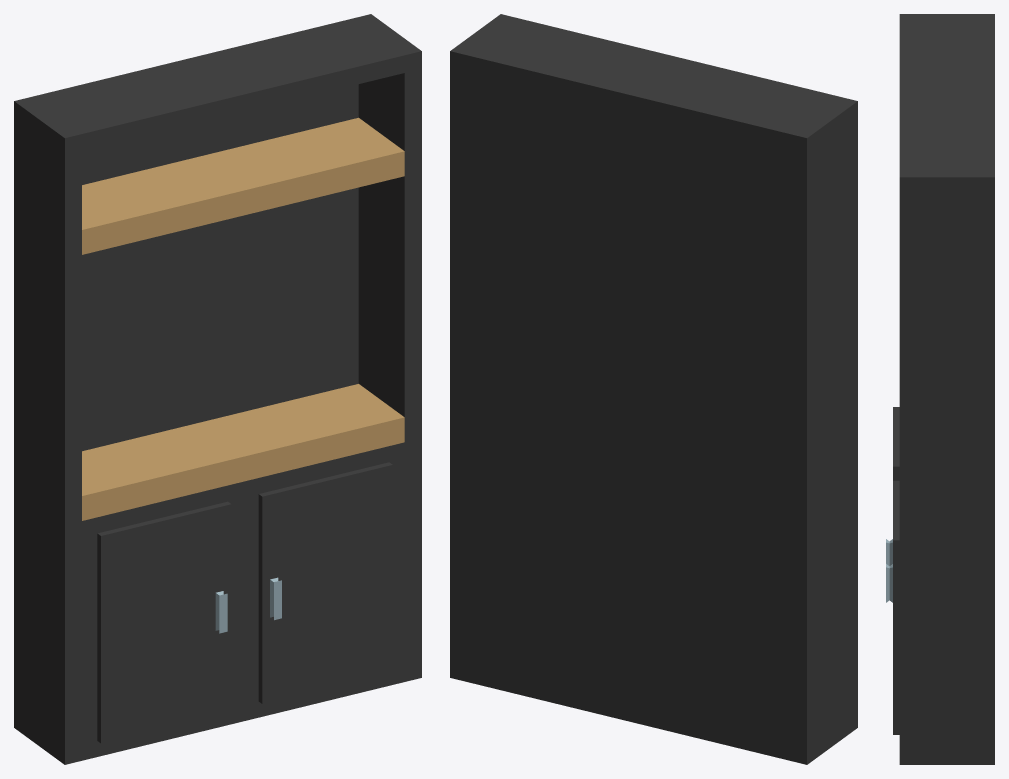
Rendered from BarShelf.fbx.
The picture shows the model from 3 angles, left to right: view 1: azimuth 30°, elevation 25°; view 2: azimuth 150°, elevation 25°; view 3: azimuth 270°, elevation 25°; orthographic projection. The views are drawn at different scales.
Parts seen in each view (by area): view 1: BarShelf; view 2: BarShelf; view 3: BarShelf.
Part boxes in pixels (left/top/right/bottom): BarShelf: left=14, top=14, right=421, bottom=764; BarShelf: left=450, top=14, right=857, bottom=764; BarShelf: left=886, top=14, right=994, bottom=764.
Size of the model in its own units: 116 by 194 by 32.58.
